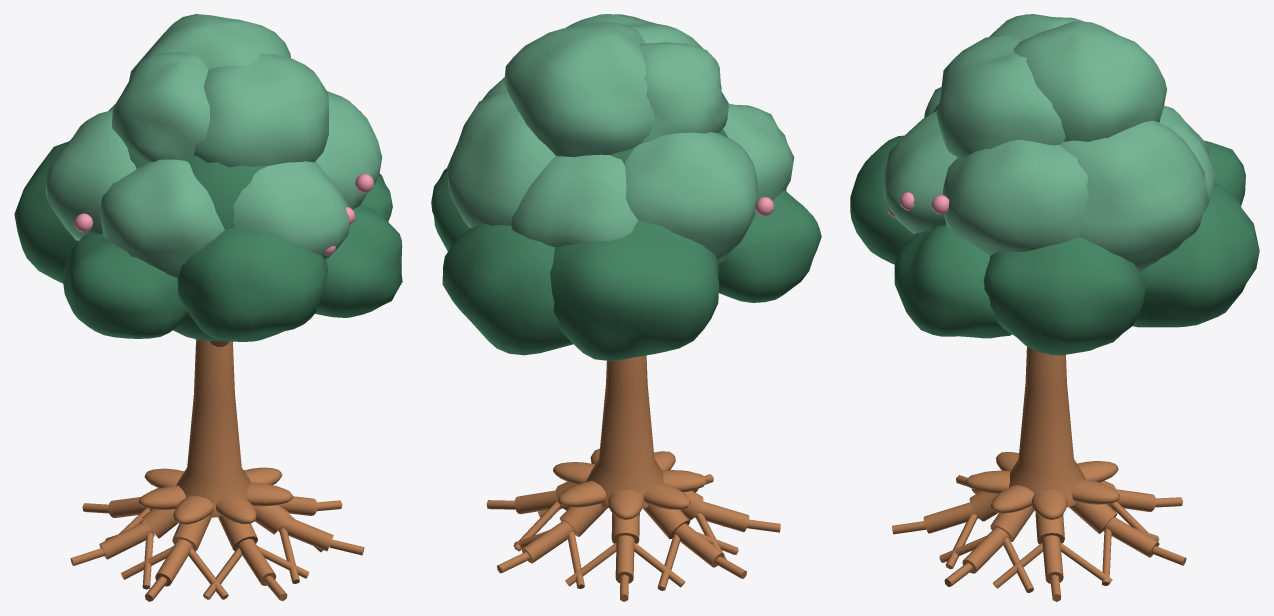
Rendered from tree_small.glb.
3 views of the same model, side by side, from view 1: azimuth 30°, elevation 25°; view 2: azimuth 150°, elevation 25°; view 3: azimuth 270°, elevation 25° (orthographic).
Parts seen in each view (by area): view 1: tree_small; view 2: tree_small; view 3: tree_small.
Part boxes in pixels (x1,y1,x2,y2): tree_small: (14, 14, 402, 601); tree_small: (431, 14, 821, 601); tree_small: (850, 14, 1259, 601).
Bounding box in the file's own units: 2.85 × 4.14 × 2.93.
1 material, 1 textured.
